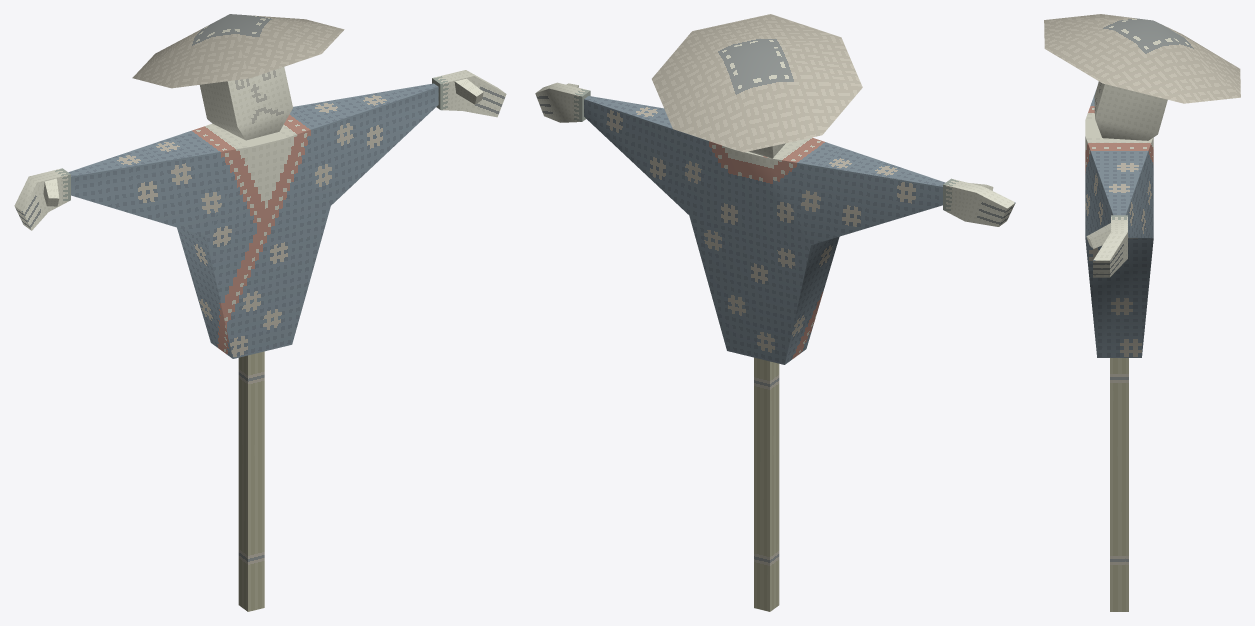
File: 0067_Scarecrow.glb
The picture shows the model from 3 angles, left to right: view 1: azimuth 30°, elevation 25°; view 2: azimuth 150°, elevation 25°; view 3: azimuth 270°, elevation 25°; orthographic projection. The views are drawn at different scales.
Visible parts, largest first — view 1: part_0; view 2: part_0; view 3: part_0.
Part boxes in pixels (bbox=[...]): part_0: bbox=[14, 14, 506, 611]; part_0: bbox=[535, 14, 1015, 611]; part_0: bbox=[1044, 14, 1240, 611].
Bounding box in the file's own units: 1.48 × 1.7 × 0.518.
1 material, 1 textured.
